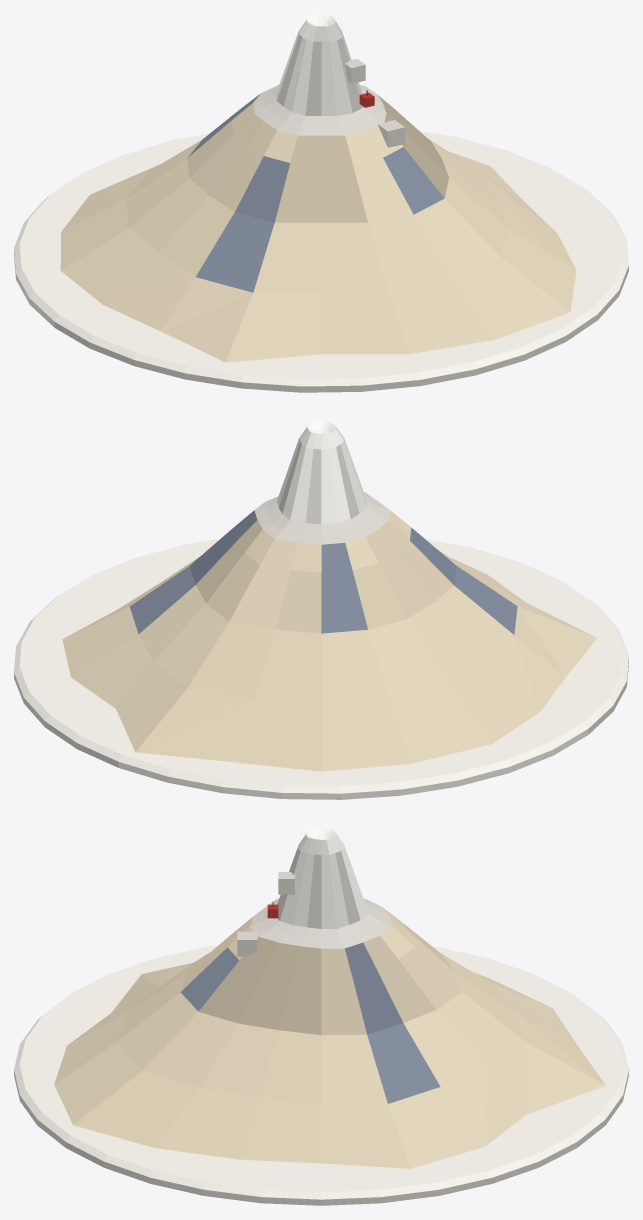
The model's file is tenerife.glb.
3 views of the same model, one above another, from view 1: azimuth 30°, elevation 25°; view 2: azimuth 150°, elevation 25°; view 3: azimuth 270°, elevation 25° (orthographic).
Parts seen in each view (by area): view 1: model; view 2: model; view 3: model.
Part boxes in pixels (<box>): model: <box>14,14,628,392</box>; model: <box>14,421,628,799</box>; model: <box>14,828,628,1205</box>.
Bounding box in the file's own units: 74 × 32.1 × 74.
